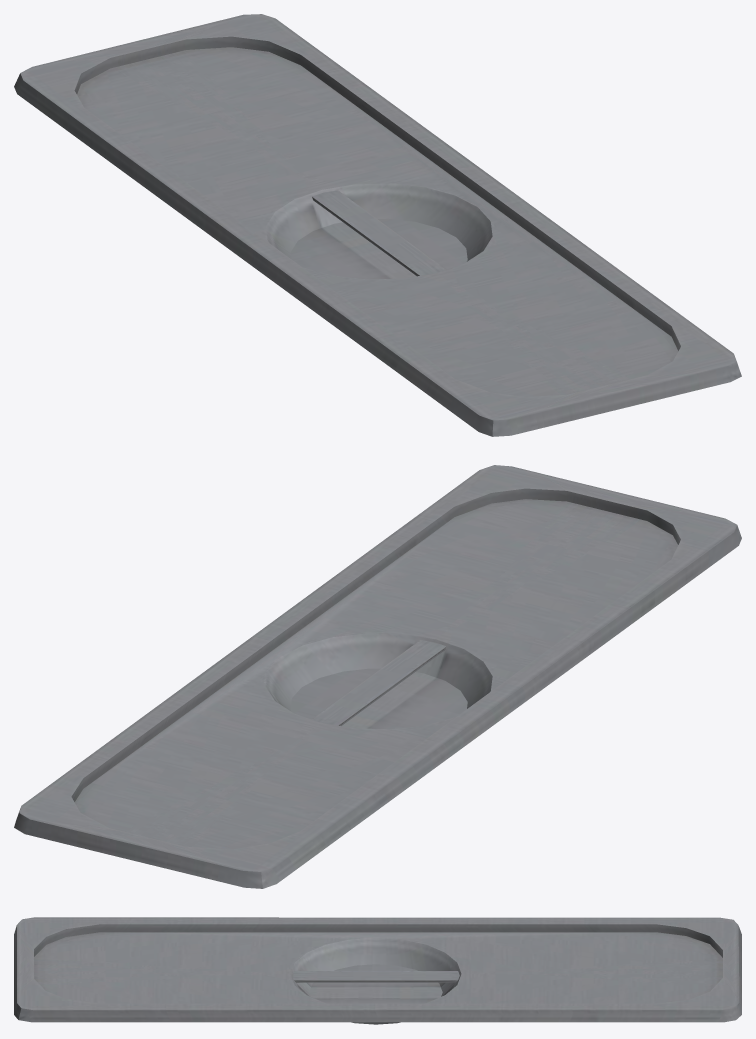
The model's file is SM_Hotel_Pan_2_4_Lid_01.glb.
3 views of the same model, one above another, from view 1: azimuth 30°, elevation 25°; view 2: azimuth 150°, elevation 25°; view 3: azimuth 270°, elevation 25° (orthographic). The views are drawn at different scales.
Parts seen in each view (by area): view 1: SM_Hotel_Pan_2_4_Lid_01; view 2: SM_Hotel_Pan_2_4_Lid_01; view 3: SM_Hotel_Pan_2_4_Lid_01.
Boxes of the visible parts, x1,y1,x2,y2 form: SM_Hotel_Pan_2_4_Lid_01: (14, 14, 741, 436); SM_Hotel_Pan_2_4_Lid_01: (14, 465, 741, 888); SM_Hotel_Pan_2_4_Lid_01: (14, 917, 741, 1024).
Size of the model in its own units: 0.1654 by 0.0255 by 0.5341.
Materials: 1 (1 with a texture image).
